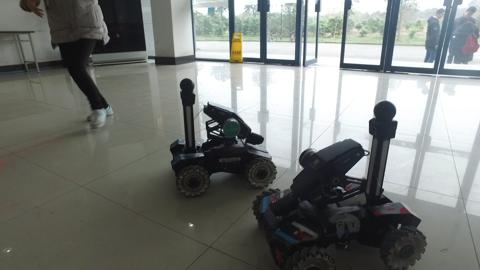chariot: (254, 94, 434, 270), (163, 75, 276, 200)
